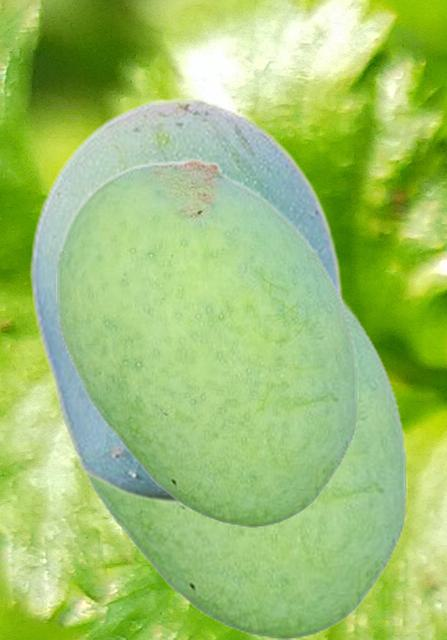green_mango: (28, 96, 343, 504), (55, 295, 406, 638), (56, 157, 357, 526)
